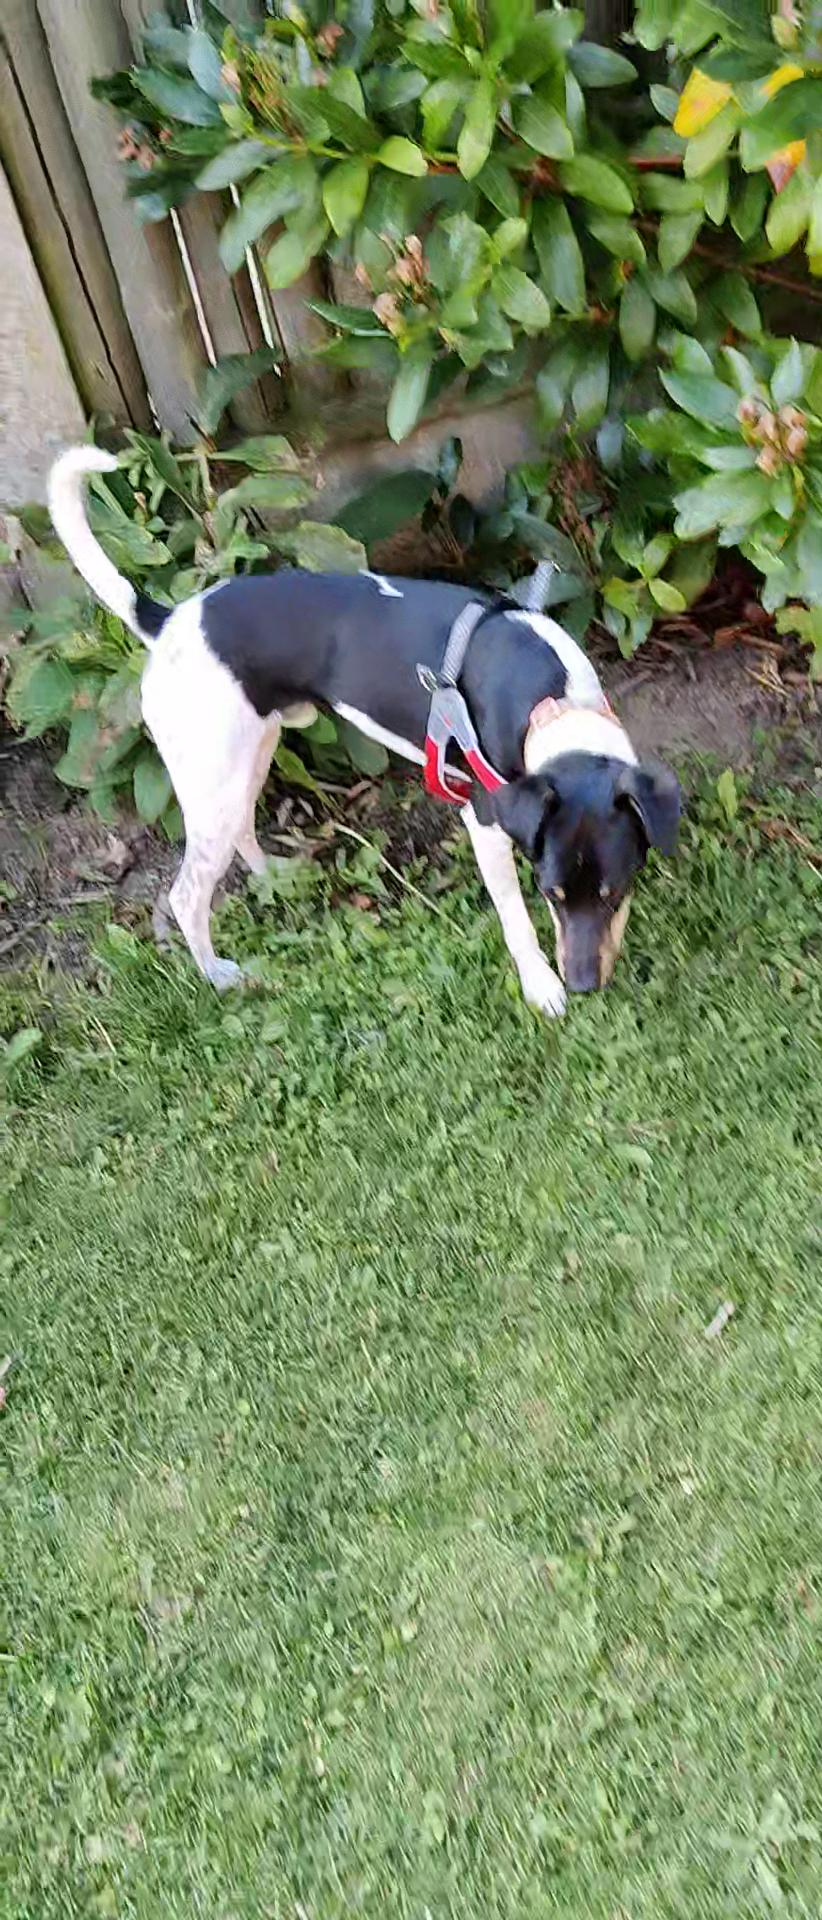Dog: (36, 431, 696, 1031)
